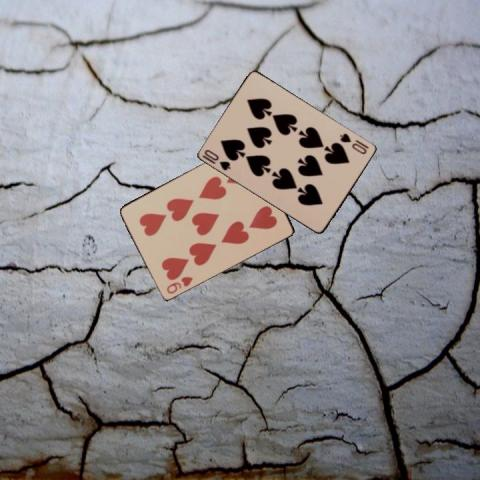10s: (337, 130, 369, 156), (201, 147, 232, 172)
9h: (164, 273, 195, 295)
